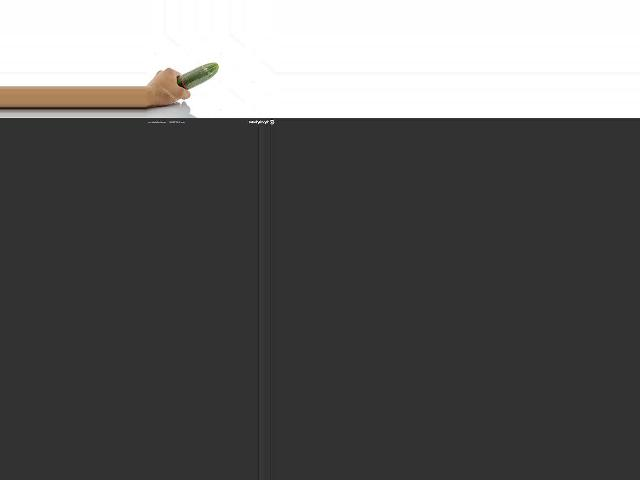cucumber: (176, 62, 218, 89)
